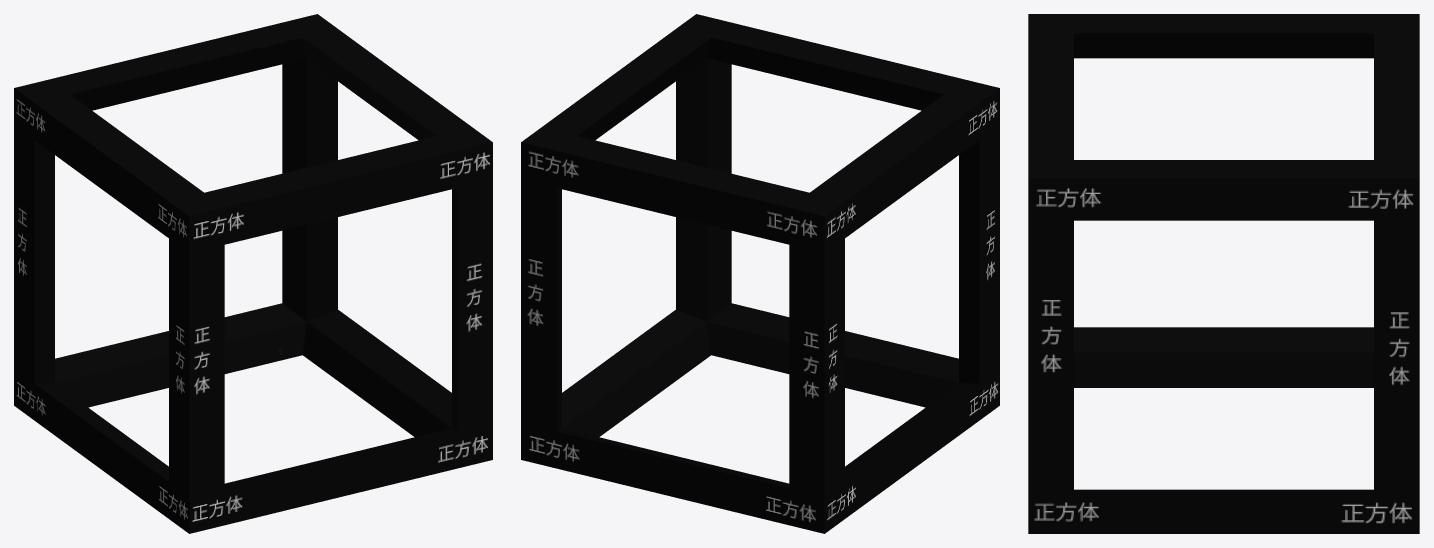
3 views of the same model, side by side, from view 1: azimuth 30°, elevation 25°; view 2: azimuth 150°, elevation 25°; view 3: azimuth 270°, elevation 25° (orthographic). The views are drawn at different scales.
Visible parts, largest first — view 1: 立方体; view 2: 立方体; view 3: 立方体.
Part boxes in pixels (x1,y1,x2,y2): 立方体: (14,14,492,533); 立方体: (521,14,999,533); 立方体: (1028,14,1419,533).
Bounding box in the file's own units: 219 × 219 × 219.
